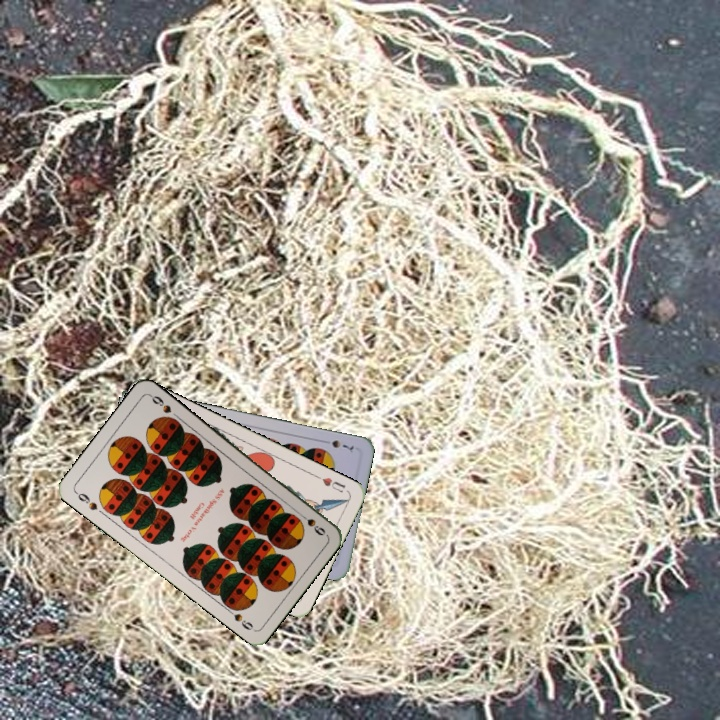HU: (312, 471, 348, 495)
S7: (318, 436, 356, 453)
S9: (294, 508, 328, 538), (71, 488, 100, 513)
